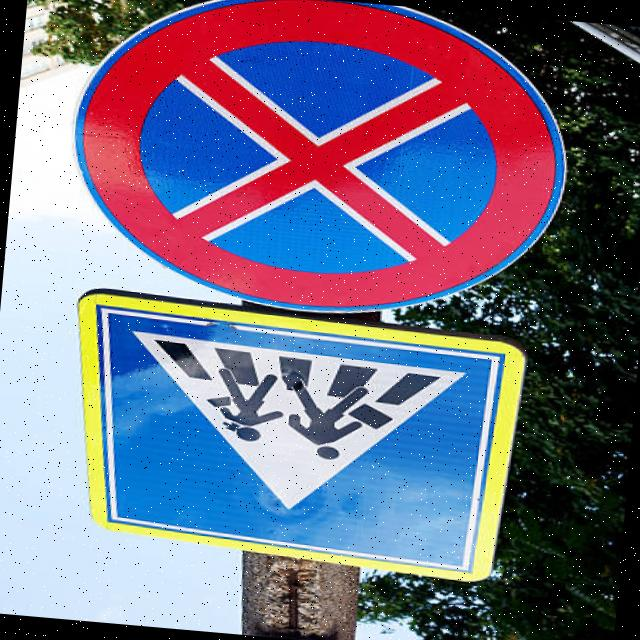no_parking: (25, 0, 640, 339)
